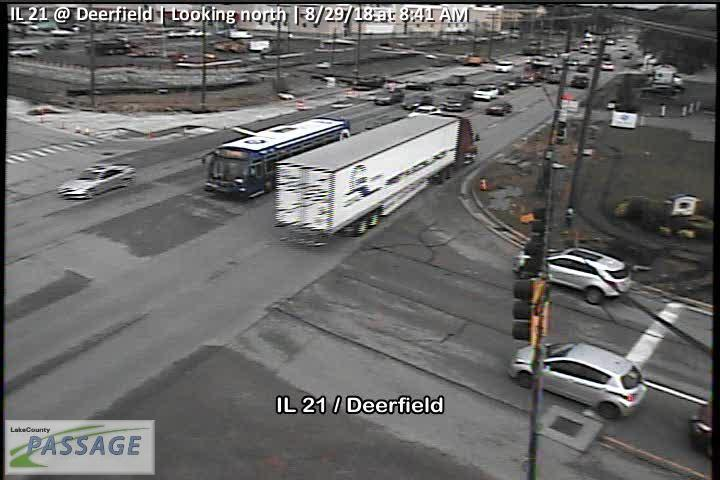Bus: (198, 116, 353, 202)
Sedan: (509, 338, 648, 420), (514, 244, 632, 304), (56, 164, 136, 200), (400, 92, 433, 110), (485, 100, 513, 116)
Truck: (272, 110, 479, 248)
